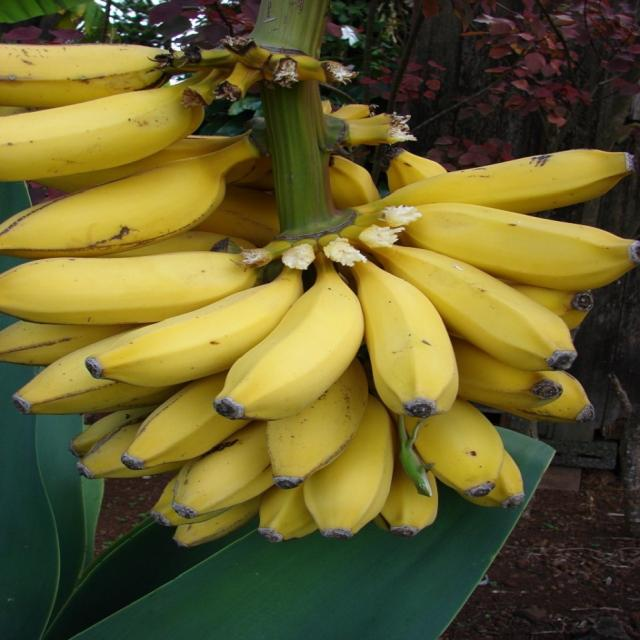Banana: (0, 1, 627, 559)
